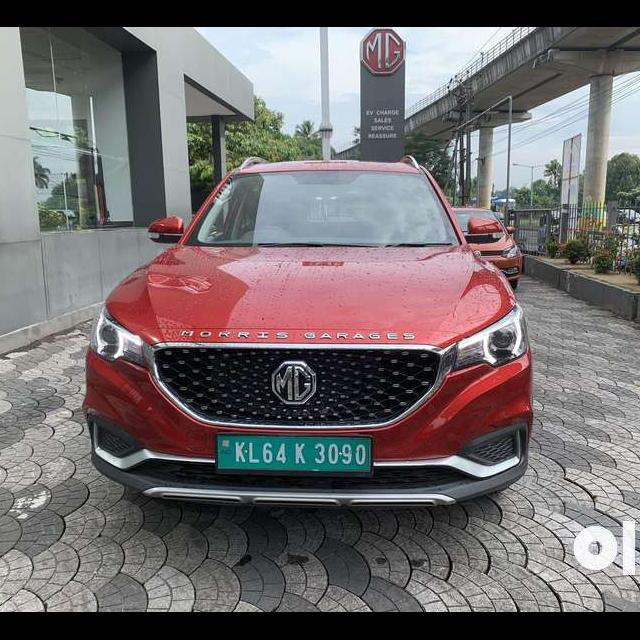Indian_Number_Plate: (215, 433, 373, 476)
